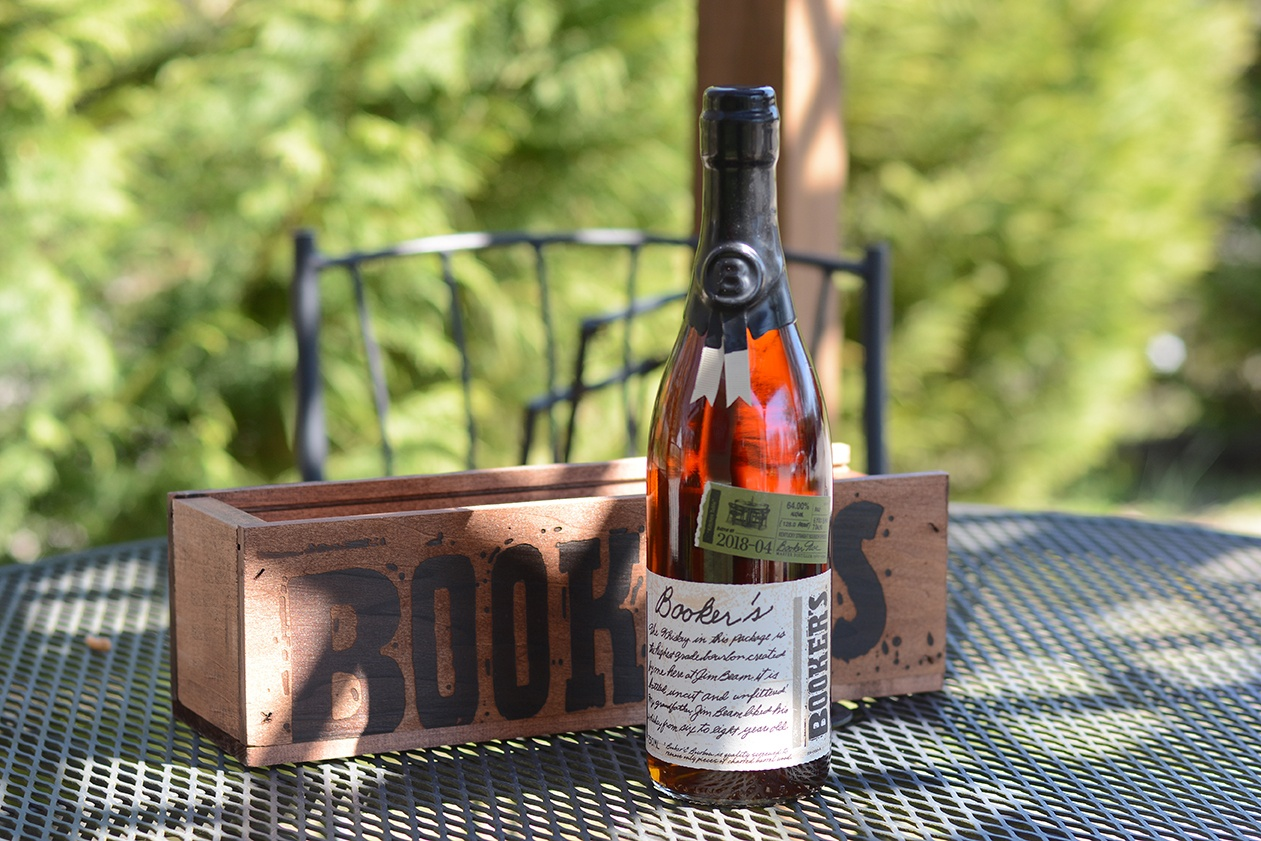beerBottle: (652, 94, 834, 794)
